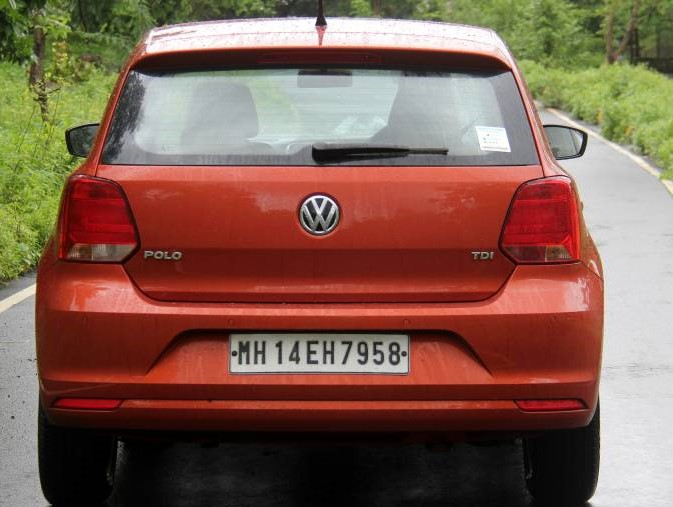MH14EH7958: (229, 331, 409, 373)
